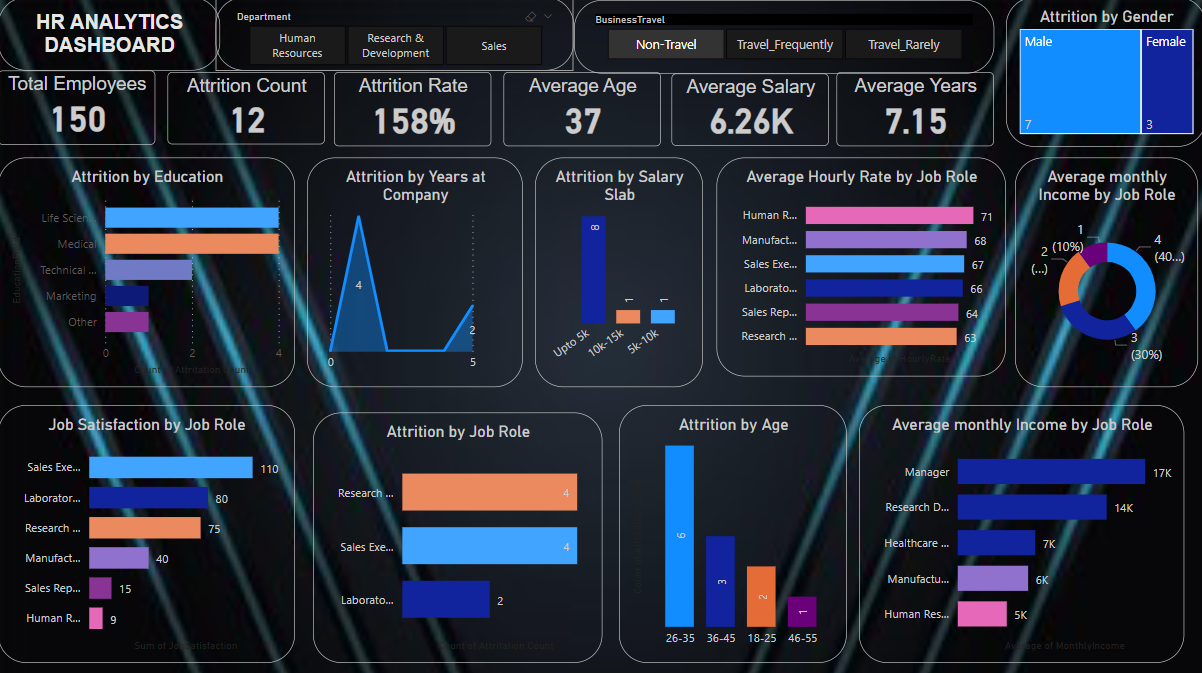

What the dashboard file says about the page in this screenshot:
{"tool":"powerbi","page":{"name":"Dashboard","canvas":[1280,720],"ordinal":0},"visuals":[{"type":"card","title":"Total Employees","fields":{"Values":["CountNonNull(HR_Analytics.EmpID)"]},"box":[0,78.3,166.7,78.3],"z":0},{"type":"card","title":"Attrition Count","fields":{"Values":["CountNonNull(HR_Analytics.Attrition)"]},"box":[180,80,166.7,76.7],"z":1000},{"type":"card","title":"Attrition Rate","fields":{"Values":["HR_Analytics.Attrition Rate"]},"box":[356.7,80,166.7,78.3],"z":2000},{"type":"card","title":"Average Salary","fields":{"Values":["Avg(HR_Analytics.MonthlyIncome)"]},"box":[713.3,81.7,166.7,76.7],"z":3000},{"type":"card","title":"Average Years","fields":{"Values":["Avg(HR_Analytics.YearsAtCompany)"]},"box":[888.3,80,166.7,78.3],"z":4000},{"type":"card","title":"Average Age","fields":{"Values":["Avg(HR_Analytics.Age)"]},"box":[535,80,166.7,78.3],"z":5000},{"type":"clusteredBarChart","title":"Attrition by Education","fields":{"Category":["HR_Analytics.EducationField"],"Y":["CountNonNull(HR_Analytics.Attritation Count)"]},"box":[0,170.1,314.7,243.2],"z":6000},{"type":"clusteredBarChart","title":"Attrition by Job Role","fields":{"Category":["HR_Analytics.JobRole"],"Y":["CountNonNull(HR_Analytics.Attritation Count)"]},"box":[333.8,440.3,306.8,265.4],"z":7000},{"type":"columnChart","title":"Attrition by Age","fields":{"Y":["CountNonNull(HR_Analytics.Attritation Count)"],"Series":["HR_Analytics.AgeGroup"],"Category":["HR_Analytics.AgeGroup"]},"box":[658,432.3,241.6,273.4],"z":8000},{"type":"columnChart","title":"Attrition by Salary Slab","fields":{"Category":["HR_Analytics.SalarySlab"],"Y":["CountNonNull(HR_Analytics.Attritation Count)"]},"box":[569,170.1,178,243.2],"z":9000},{"type":"stackedAreaChart","title":"Attrition by Years at Company","fields":{"Category":["HR_Analytics.YearsAtCompany"],"Y":["CountNonNull(HR_Analytics.Attritation Count)"]},"box":[327.4,170.1,228.9,243.2],"z":10000},{"type":"treemap","title":"Attrition by Gender","fields":{"Group":["HR_Analytics.Gender"],"Values":["CountNonNull(HR_Analytics.Attritation Count)"]},"box":[1068.3,0,211.7,158.3],"z":11000},{"type":"clusteredBarChart","title":"Job Satisfaction by Job Role","fields":{"Category":["HR_Analytics.JobRole"],"Y":["Sum(HR_Analytics.JobSatisfaction)"]},"box":[0,432.3,314.7,273.4],"z":12000},{"type":"textbox","box":[0,0,235.2,77.9],"z":13000},{"type":"clusteredBarChart","title":"Average Hourly Rate  by Job Role","fields":{"Category":["HR_Analytics.JobRole"],"Y":["Avg(HR_Analytics.HourlyRate)"]},"box":[761.3,170.1,306.8,232.1],"z":14000},{"type":"clusteredBarChart","title":"Average monthly Income by Job Role","fields":{"Category":["HR_Analytics.JobRole"],"Y":["Avg(HR_Analytics.MonthlyIncome)"]},"box":[912.3,432.3,344.9,273.4],"z":15000},{"type":"donutChart","title":"Average monthly Income by Job Role","fields":{"Category":["HR_Analytics.WorkLifeBalance"],"Y":["Avg(HR_Analytics.WorkLifeBalance)"]},"box":[1077.6,170.1,193.9,243.2],"z":16000},{"type":"slicer","fields":{"Values":["HR_Analytics.BusinessTravel"]},"box":[610.3,3.2,445,77.9],"z":17000},{"type":"slicer","fields":{"Values":["HR_Analytics.Department"]},"box":[230.5,0,379.9,77.9],"z":18000}]}

Visuals, with their boxes in screenshot pixels (x1, y1, x2, y2), scaled from the page's 1280x720 canvas onto the 1202x673 screenshot:
"Total Employees" card: <box>0,73,157,146</box>
"Attrition Count" card: <box>169,75,326,146</box>
"Attrition Rate" card: <box>335,75,492,148</box>
"Average Salary" card: <box>670,76,826,148</box>
"Average Years" card: <box>834,75,991,148</box>
"Average Age" card: <box>502,75,659,148</box>
"Attrition by Education" clusteredBarChart: <box>0,159,296,386</box>
"Attrition by Job Role" clusteredBarChart: <box>313,412,602,660</box>
"Attrition by Age" columnChart: <box>618,404,845,660</box>
"Attrition by Salary Slab" columnChart: <box>534,159,701,386</box>
"Attrition by Years at Company" stackedAreaChart: <box>307,159,522,386</box>
"Attrition by Gender" treemap: <box>1003,0,1201,148</box>
"Job Satisfaction by Job Role" clusteredBarChart: <box>0,404,296,660</box>
textbox: <box>0,0,221,73</box>
"Average Hourly Rate  by Job Role" clusteredBarChart: <box>715,159,1003,376</box>
"Average monthly Income by Job Role" clusteredBarChart: <box>857,404,1181,660</box>
"Average monthly Income by Job Role" donutChart: <box>1012,159,1194,386</box>
slicer - HR_Analytics.BusinessTravel: <box>573,3,991,76</box>
slicer - HR_Analytics.Department: <box>216,0,573,73</box>
